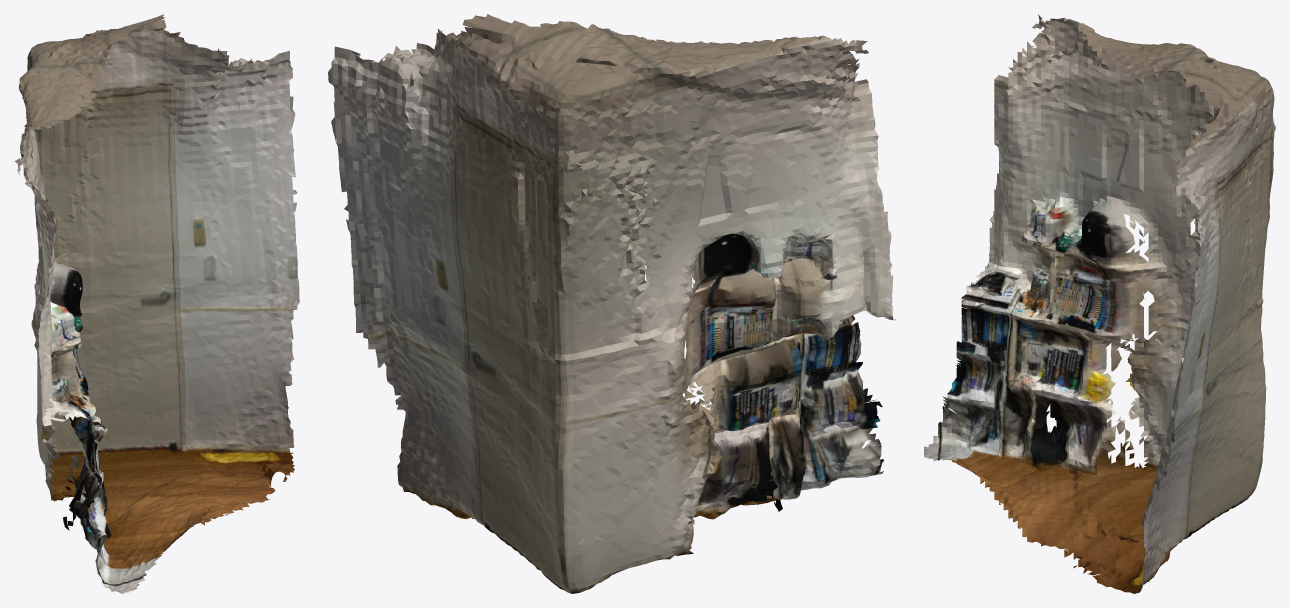
3 views of the same model, side by side, from view 1: azimuth 30°, elevation 25°; view 2: azimuth 150°, elevation 25°; view 3: azimuth 270°, elevation 25° (orthographic). The views are drawn at different scales.
Parts seen in each view (by area): view 1: mesh; view 2: mesh; view 3: mesh.
Boxes of the visible parts, x1=… form: mesh: x1=14, y1=14, x2=299, y2=593; mesh: x1=328, y1=14, x2=895, y2=593; mesh: x1=924, y1=14, x2=1275, y2=593.
Size of the model in its own units: 2.25 by 2.63 by 1.88.
1 material, 1 textured.
